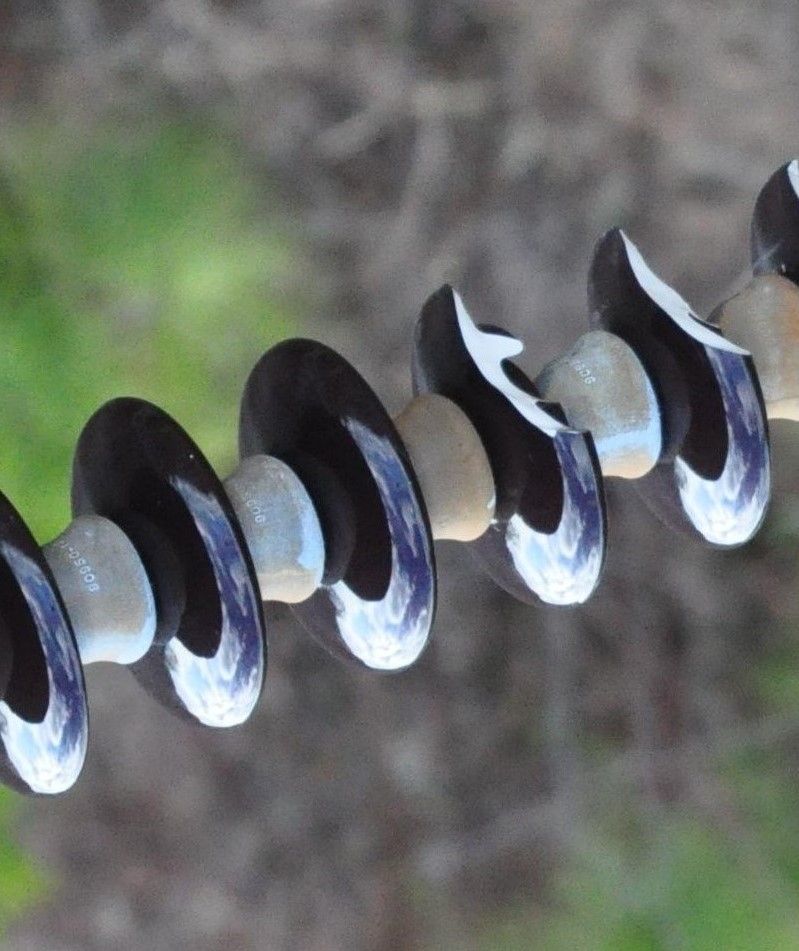insulator breakage: (411, 273, 605, 609), (605, 221, 774, 555)
